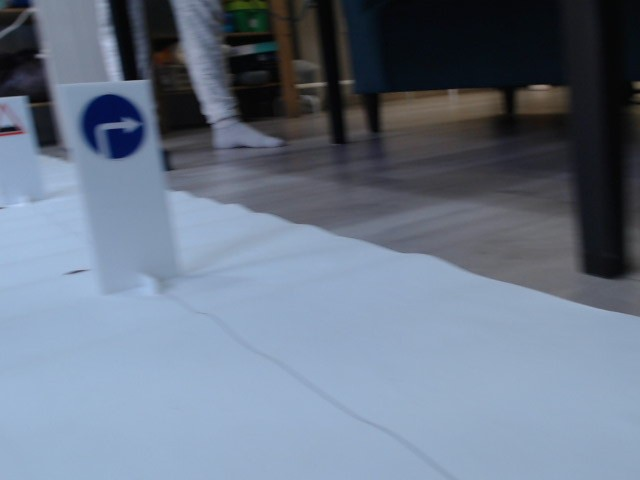Right: (79, 93, 147, 161)
